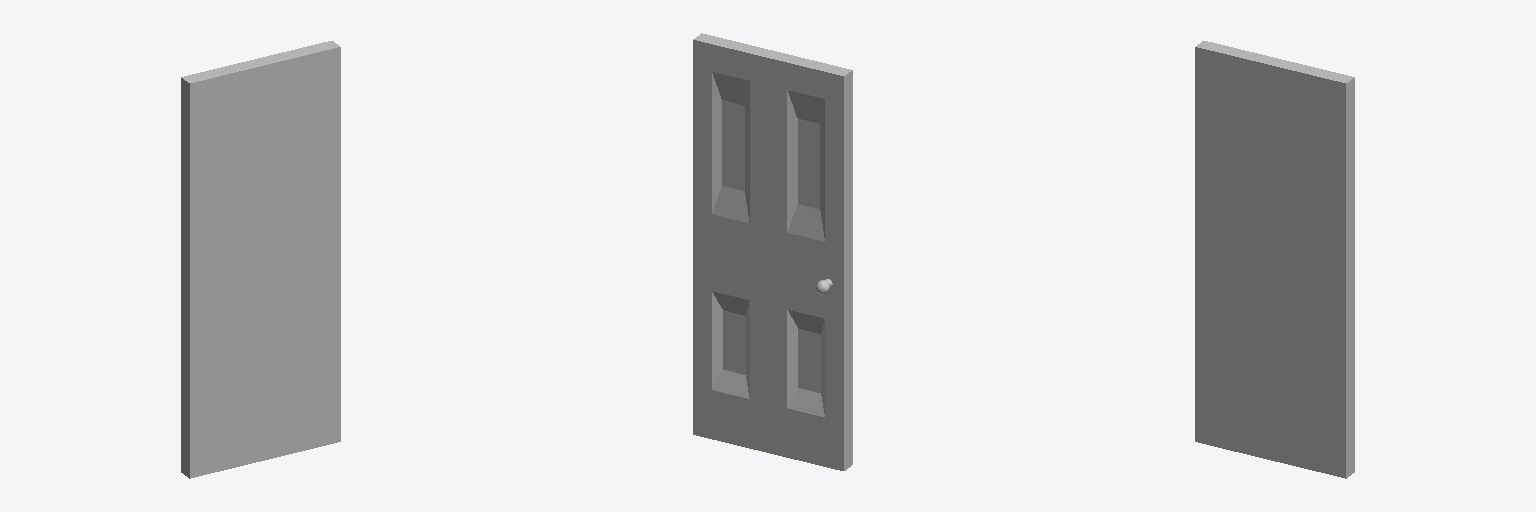
The model's file is door1.1.obj.
3 views of the same model, side by side, from view 1: azimuth 30°, elevation 25°; view 2: azimuth 150°, elevation 25°; view 3: azimuth 330°, elevation 25° (orthographic).
Visible parts, largest first — view 1: Cylinder; view 2: Cylinder; view 3: Cylinder.
Part boxes in pixels (left/top/right/bottom): Cylinder: left=181, top=41, right=340, bottom=478; Cylinder: left=693, top=33, right=852, bottom=470; Cylinder: left=1195, top=41, right=1354, bottom=478.
Size of the model in its own units: 2 by 5 by 0.4248.